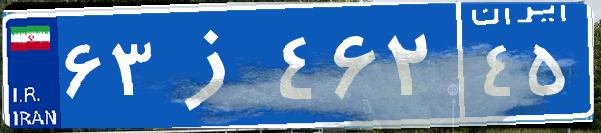2: (385, 28, 445, 110)
3: (110, 28, 158, 105)
4: (273, 28, 330, 110), (475, 38, 525, 113)
5: (525, 38, 570, 115)
6: (330, 28, 385, 110), (57, 26, 110, 107)
ز: (158, 15, 273, 115)
